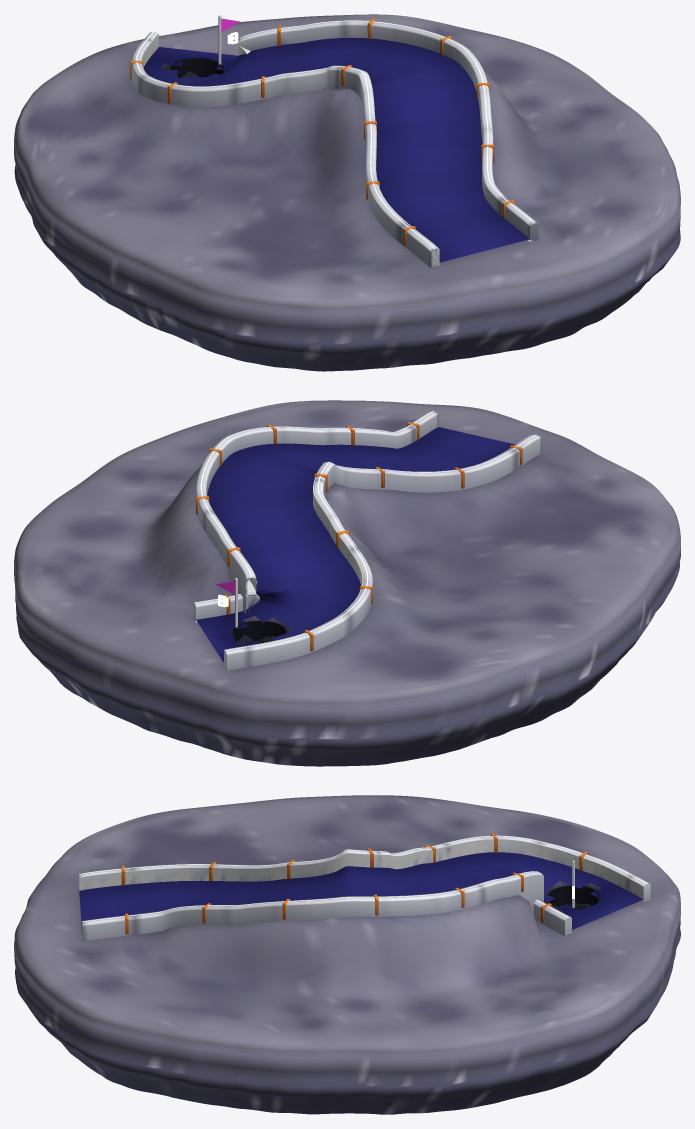
File: course-18.glb
3 renders of one model, top to bottom at view 1: azimuth 30°, elevation 25°; view 2: azimuth 150°, elevation 25°; view 3: azimuth 270°, elevation 25°, orthographic. The views are drawn at different scales.
Visible parts, largest first — view 1: scenery-matte.017, surface-grass, rail-trim-left, rail-trim-right, rail-left; view 2: scenery-matte.017, surface-grass, rail-trim-left, rail-trim-right, rail-left; view 3: scenery-matte.017, surface-grass, rail-trim-right, rail-left, rail-trim-left.
Boxes of the visible parts, x1,y1,x2,y2 form: scenery-matte.017: [14, 14, 680, 371]; surface-grass: [143, 37, 529, 262]; rail-trim-left: [130, 31, 439, 267]; rail-trim-right: [238, 19, 538, 240]; rail-left: [141, 33, 439, 266]; scenery-matte.017: [14, 400, 680, 766]; surface-grass: [196, 427, 515, 662]; rail-trim-left: [224, 434, 541, 670]; rail-trim-right: [193, 411, 438, 620]; rail-left: [224, 435, 532, 668]; scenery-matte.017: [14, 795, 680, 1114]; surface-grass: [79, 852, 643, 929]; rail-trim-right: [82, 871, 571, 940]; rail-left: [79, 839, 645, 901]; rail-trim-left: [79, 833, 650, 900].
Bounding box in the file's own units: 10.16 × 4.55 × 11.26.
